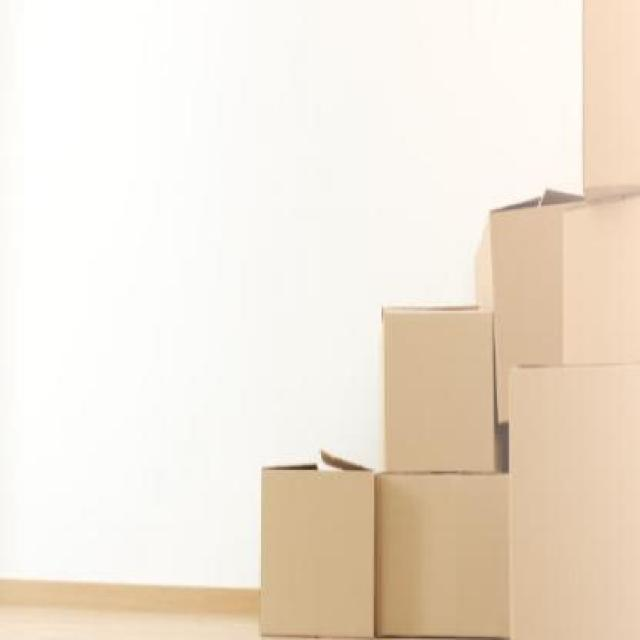box: (488, 366, 638, 640), (470, 167, 584, 445), (368, 300, 510, 497), (254, 442, 388, 640), (370, 473, 508, 640), (557, 210, 638, 368), (575, 0, 638, 199)
